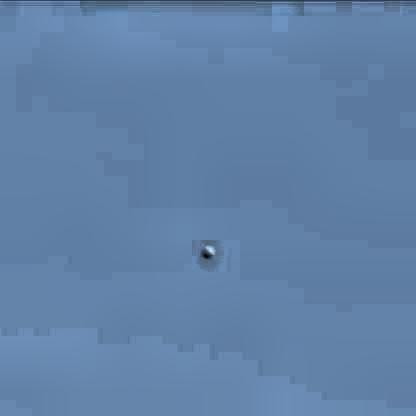golfball: (198, 242, 216, 258)
